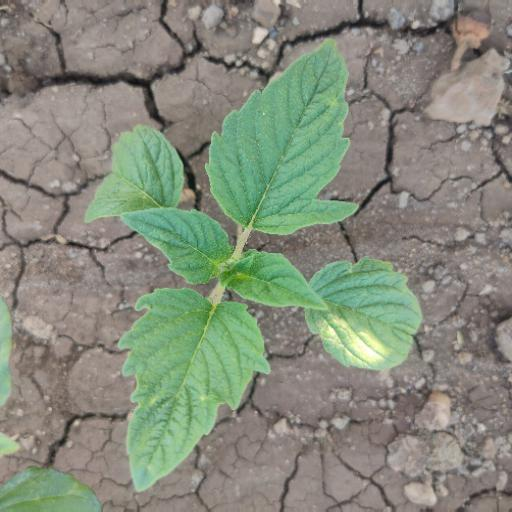crop: (84, 53, 429, 512)
